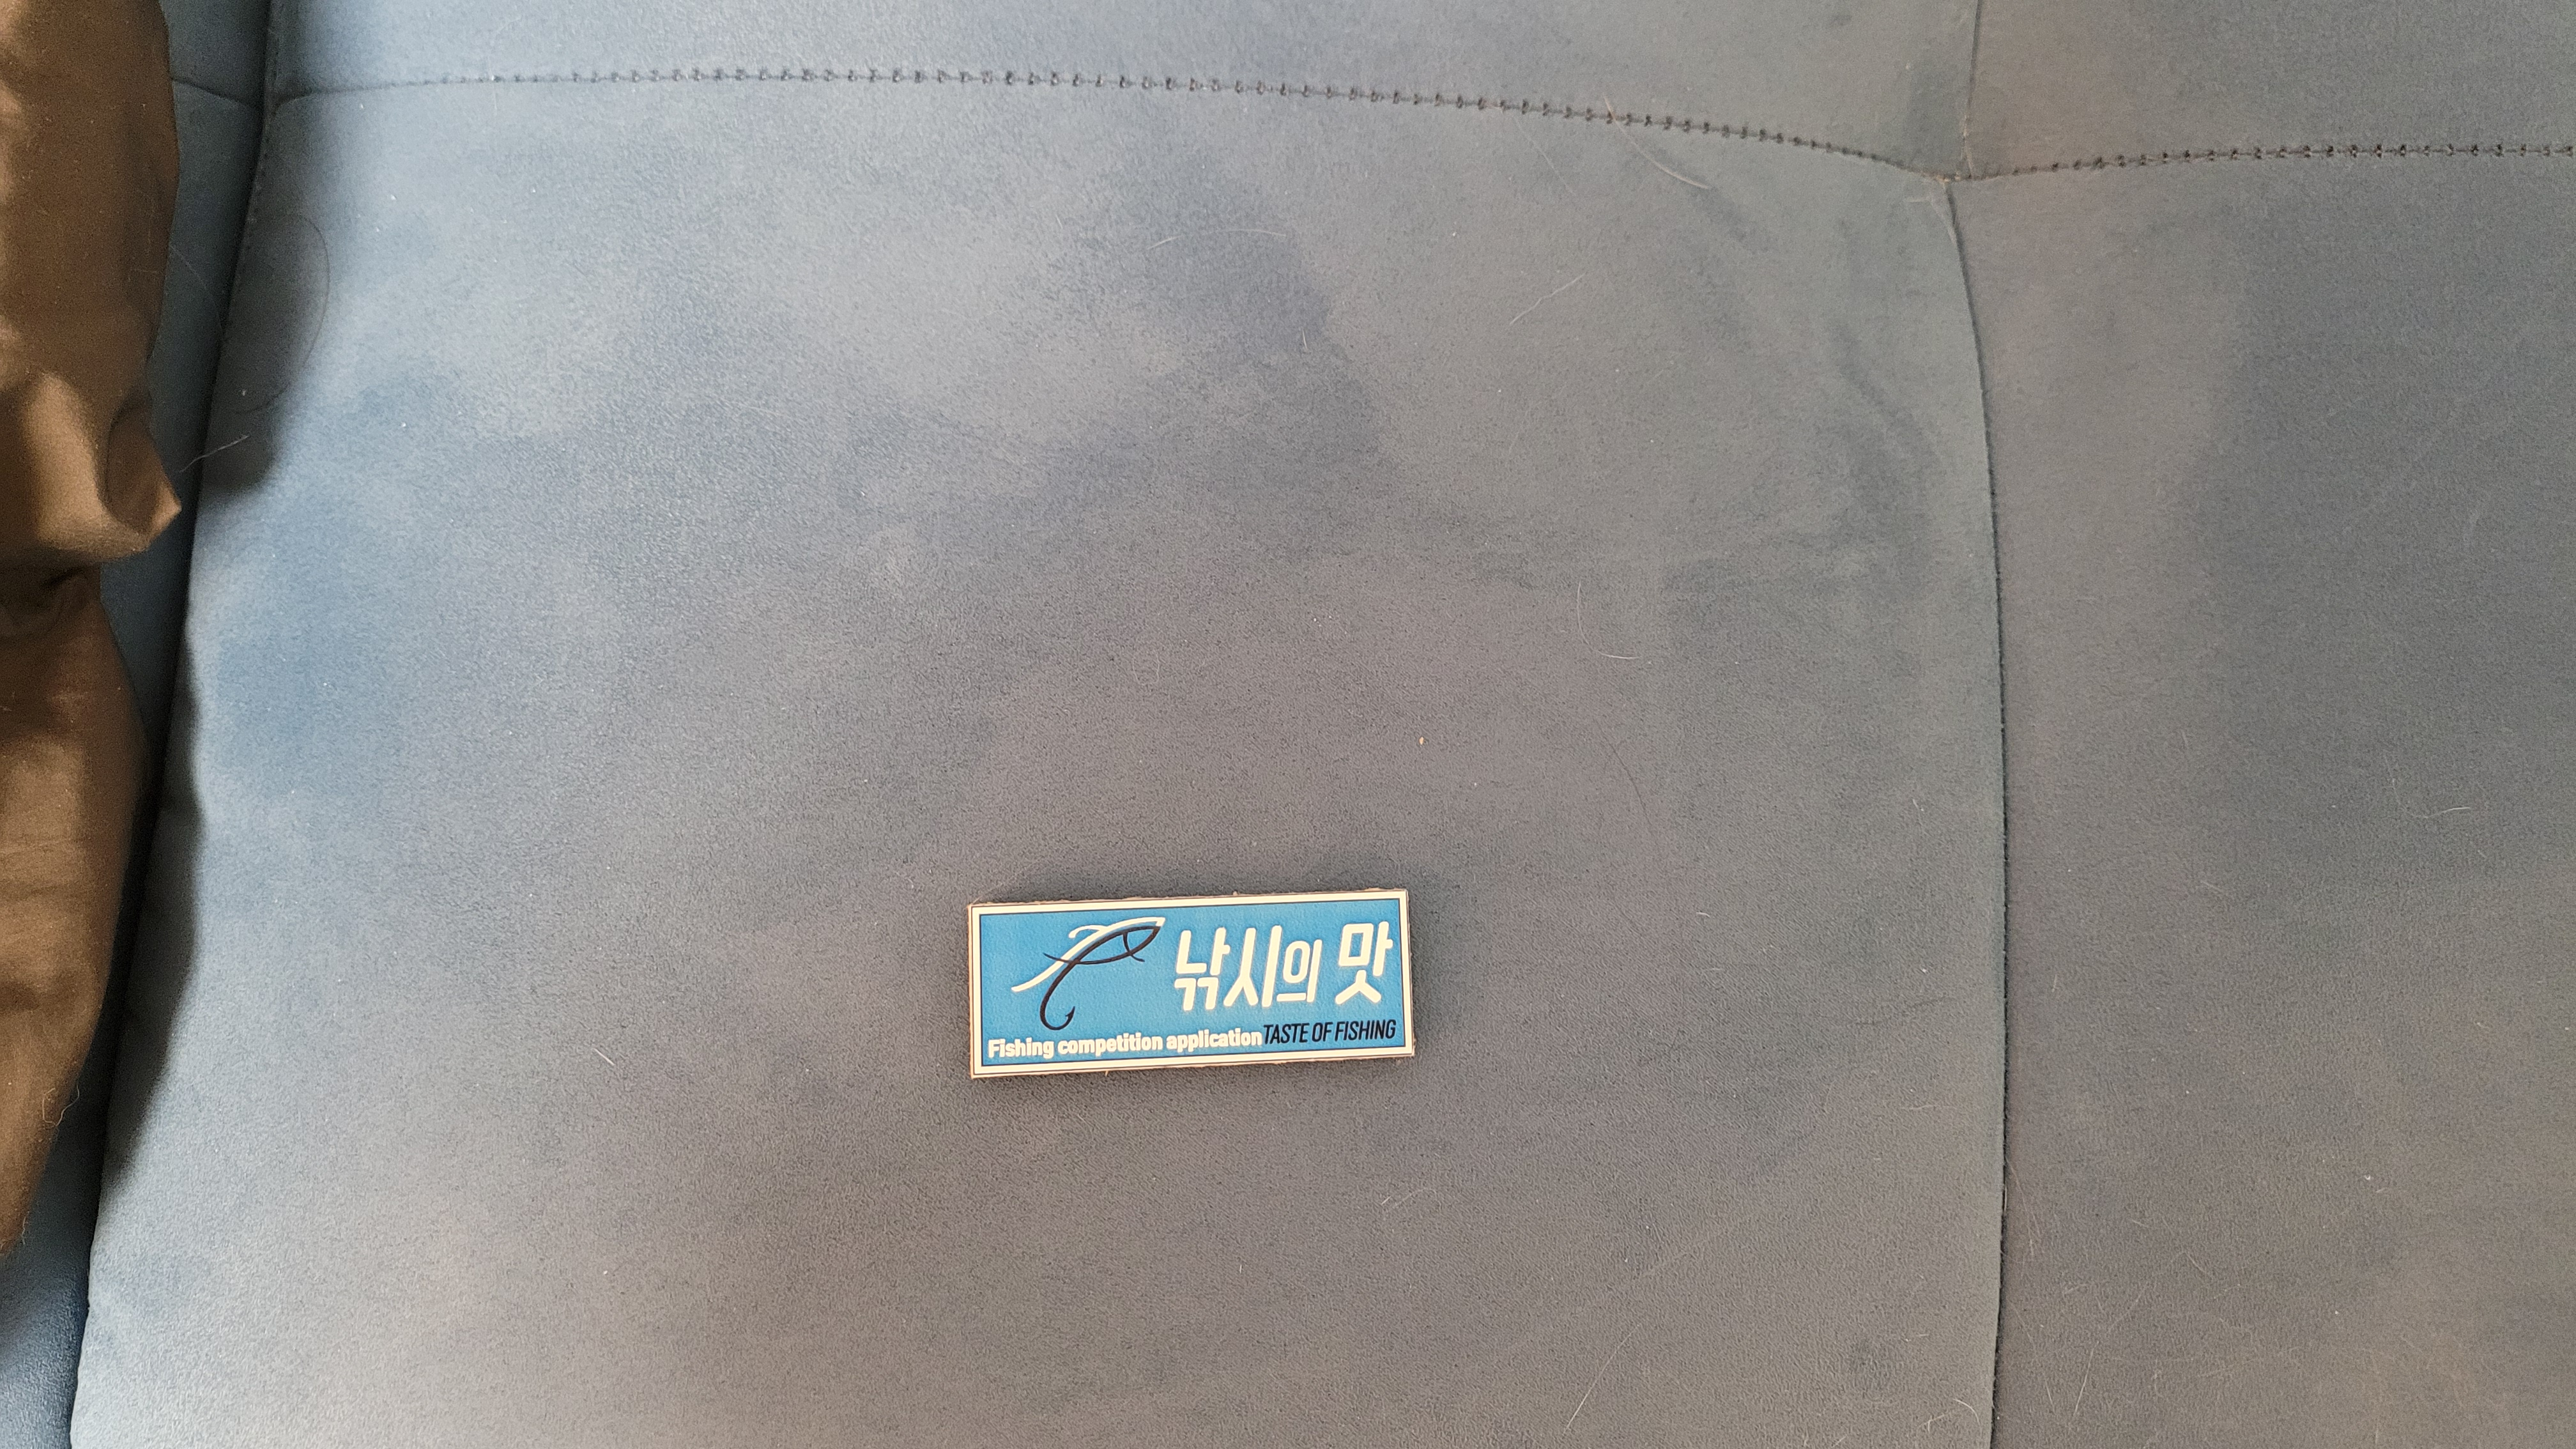tag: (966, 906, 1410, 1065)
